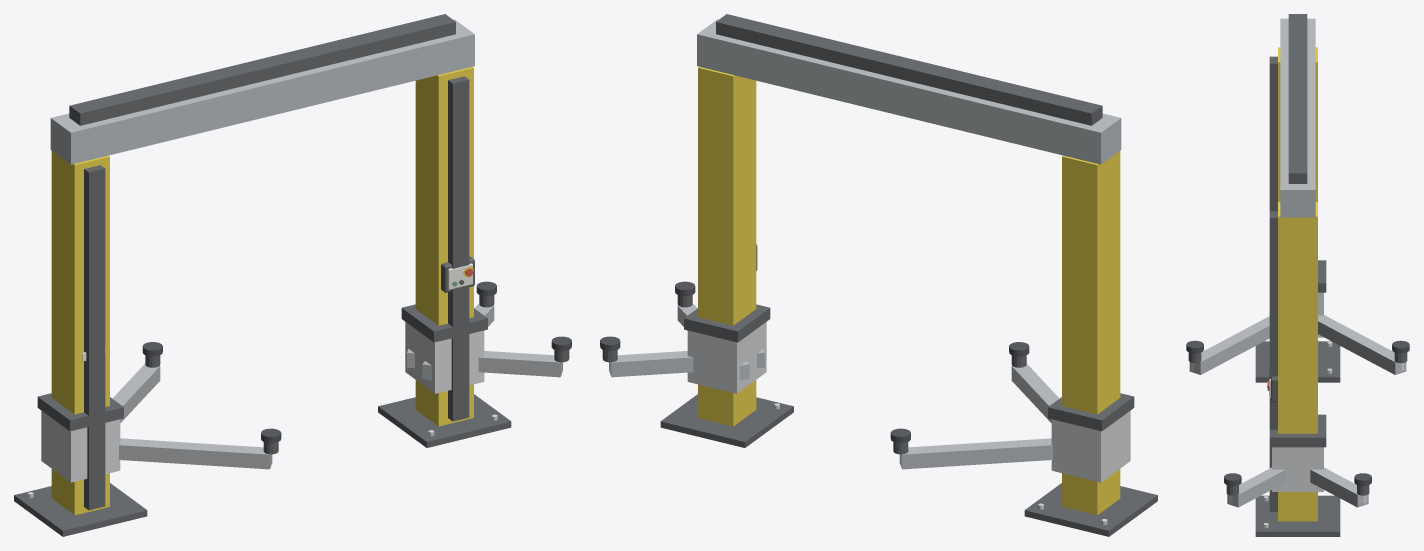
Rendered from car-repair-garage-and-mot-workshop-car-repair-garage-a-fe49bc68__34000.glb.
The picture shows the model from 3 angles, left to right: view 1: azimuth 30°, elevation 25°; view 2: azimuth 150°, elevation 25°; view 3: azimuth 270°, elevation 25°; orthographic projection. The views are drawn at different scales.
Parts seen in each view (by area): view 1: car-repair-garage-and-mot-workshop-two-post-vehicle-lift, lift-carriage/paint, lift-carriage/steel, lift-carriage/charcoal, lift-carriage/rubber; view 2: car-repair-garage-and-mot-workshop-two-post-vehicle-lift, lift-carriage/steel, lift-carriage/paint, lift-carriage/charcoal, lift-carriage/rubber; view 3: car-repair-garage-and-mot-workshop-two-post-vehicle-lift, lift-carriage/paint, lift-carriage/steel, lift-carriage/charcoal, lift-carriage/rubber.
Part boxes in pixels (x1,y1,x2,y2): car-repair-garage-and-mot-workshop-two-post-vehicle-lift: (14,14,511,536); lift-carriage/paint: (112,303,562,469); lift-carriage/steel: (41,322,561,482); lift-carriage/charcoal: (37,295,569,454); lift-carriage/rubber: (142,281,571,443); car-repair-garage-and-mot-workshop-two-post-vehicle-lift: (660,14,1157,536); lift-carriage/steel: (610,322,1130,482); lift-carriage/paint: (609,303,1059,469); lift-carriage/charcoal: (602,295,1134,454); lift-carriage/rubber: (600,281,1029,443); car-repair-garage-and-mot-workshop-two-post-vehicle-lift: (1255,14,1340,536); lift-carriage/paint: (1189,315,1406,507); lift-carriage/steel: (1191,292,1404,503); lift-carriage/charcoal: (1188,260,1407,495); lift-carriage/rubber: (1186,340,1409,485).
Bounding box in the file's own units: 4.21 × 3.26 × 1.9.
